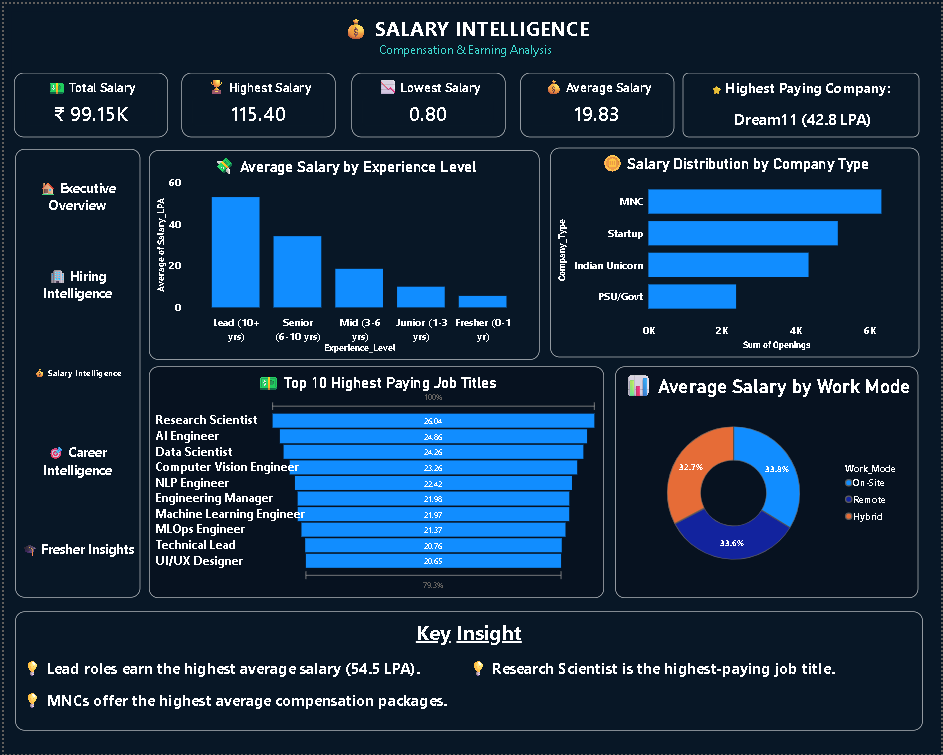

What the dashboard file says about the page in this screenshot:
{"tool":"powerbi","page":{"name":"💰 Salary Intelligence","canvas":[1500,1200],"ordinal":2},"visuals":[{"type":"donutChart","title":"📊 Average Salary by Work Mode","fields":{"Category":["india_job_market_2024_2026.Work_Mode"],"Y":["Avg(india_job_market_2024_2026.Salary_LPA)"]},"box":[977.5,580,485,370],"z":0},{"type":"barChart","title":"🪙 Salary Distribution by Company Type","fields":{"Category":["india_job_market_2024_2026.Company_Type"],"Y":["Sum(india_job_market_2024_2026.Openings)"]},"box":[873.3,230,590,335],"z":1000},{"type":"funnel","title":"💵 Top 10 Highest Paying Job Titles","fields":{"Category":["india_job_market_2024_2026.Job_Title"],"Y":["Avg(india_job_market_2024_2026.Salary_LPA)"]},"box":[231.7,580,728.3,370],"z":2000},{"type":"columnChart","title":" 💸 Average Salary by Experience Level","fields":{"Y":["Avg(india_job_market_2024_2026.Salary_LPA)"],"Category":["india_job_market_2024_2026.Experience_Level"]},"box":[231.7,233.3,625,335],"z":3000},{"type":"pageNavigator","box":[17.5,232.5,200,717.5],"z":4000},{"type":"cardVisual","title":"💵 Total Salary","fields":{"Data":["Sum(india_job_market_2024_2026.Salary_LPA)"]},"box":[16.7,110,246.7,103.3],"z":5000},{"type":"cardVisual","title":"🏆 Highest Salary","fields":{"Data":["Max(india_job_market_2024_2026.Salary_LPA)"]},"box":[283.3,110,246.7,103.3],"z":6000},{"type":"cardVisual","title":"📉 Lowest Salary","fields":{"Data":["Min(india_job_market_2024_2026.Salary_LPA)"]},"box":[556.7,110,246.7,103.3],"z":7000},{"type":"cardVisual","title":"💰 Average Salary","fields":{"Data":["Avg(india_job_market_2024_2026.Salary_LPA)"]},"box":[825,110,246.7,103.3],"z":8000},{"type":"textbox","box":[1085,110,378.3,103.3],"z":9000},{"type":"textbox","box":[12,12,1452,98],"z":10000},{"type":"textbox","box":[18,972,1452,190],"z":11000}]}

Visuals, with their boxes in screenshot pixels (x1, y1, x2, y2), scaled from the page's 1500x1200 canvas onto the 943x755 screenshot:
"📊 Average Salary by Work Mode" donutChart: bbox=(615, 365, 919, 598)
"🪙 Salary Distribution by Company Type" barChart: bbox=(549, 145, 920, 355)
"💵 Top 10 Highest Paying Job Titles" funnel: bbox=(146, 365, 604, 598)
" 💸 Average Salary by Experience Level" columnChart: bbox=(146, 147, 539, 358)
pageNavigator: bbox=(11, 146, 137, 598)
"💵 Total Salary" cardVisual: bbox=(10, 69, 166, 134)
"🏆 Highest Salary" cardVisual: bbox=(178, 69, 333, 134)
"📉 Lowest Salary" cardVisual: bbox=(350, 69, 505, 134)
"💰 Average Salary" cardVisual: bbox=(519, 69, 674, 134)
textbox: bbox=(682, 69, 920, 134)
textbox: bbox=(8, 8, 920, 69)
textbox: bbox=(11, 612, 924, 731)
